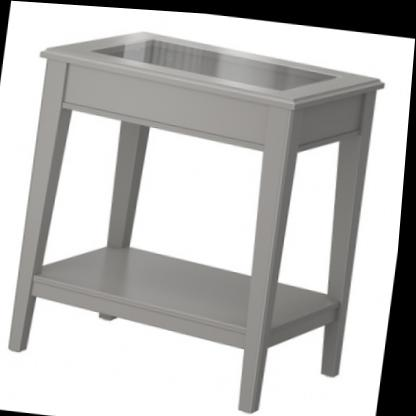Table: (0, 10, 395, 416)
